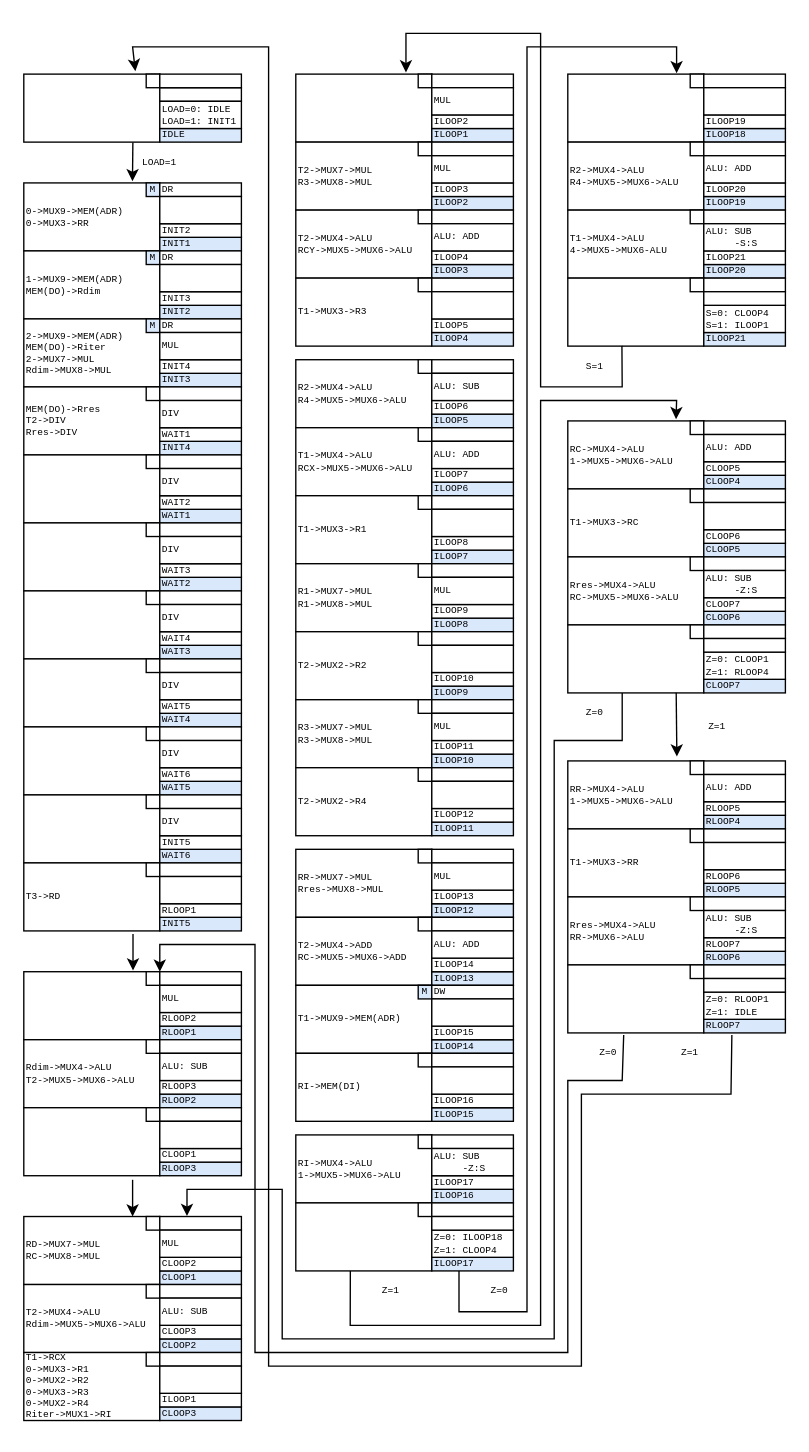
The diagram is 809 pixels wide and 1452 high, and some of its shapes have lost their labels. The centre of each missing label's shape, as x and y in pixels:
2->MUX7->MUL R1->MUX8->MUL: point (363, 107)
RD->MUX7->MUL RR->MUX8->MUL: point (91, 1005)
T1->MUX1->RI: point (635, 107)
T1->RCY 0->MUX3->RC: point (91, 1141)
